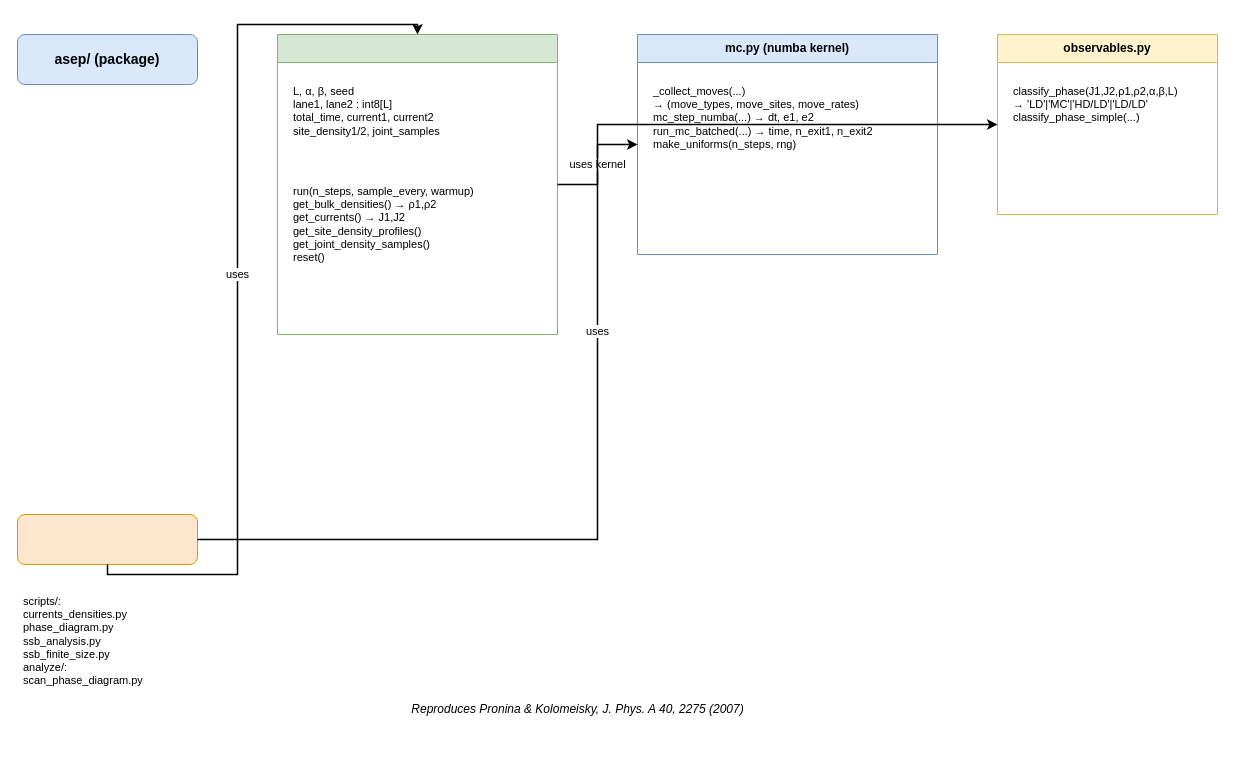
Some shapes in this 1235 by 762 pixel diagram are drawn without their labels. Here are the shapes that lost their labels. From the top down, the box of each, then its label:
(276, 34, 558, 334): model.py TwoChannelASEP
(16, 514, 198, 564): scripts/ & analyze/
